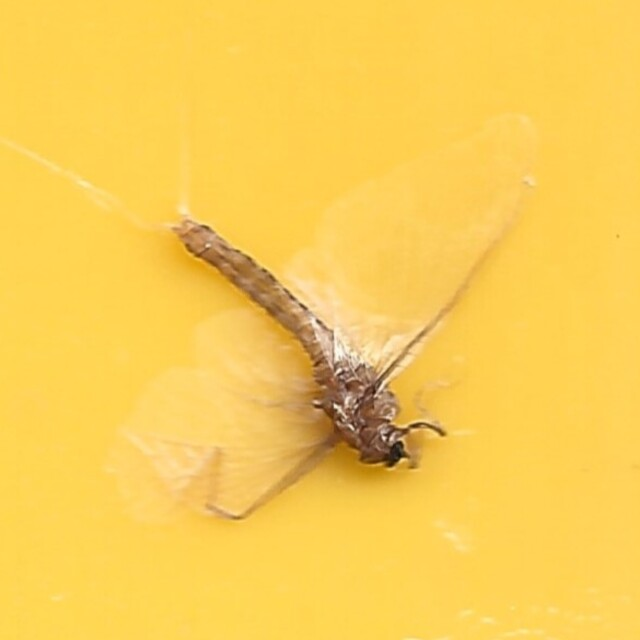Ephemeroptera: (109, 114, 531, 526)
